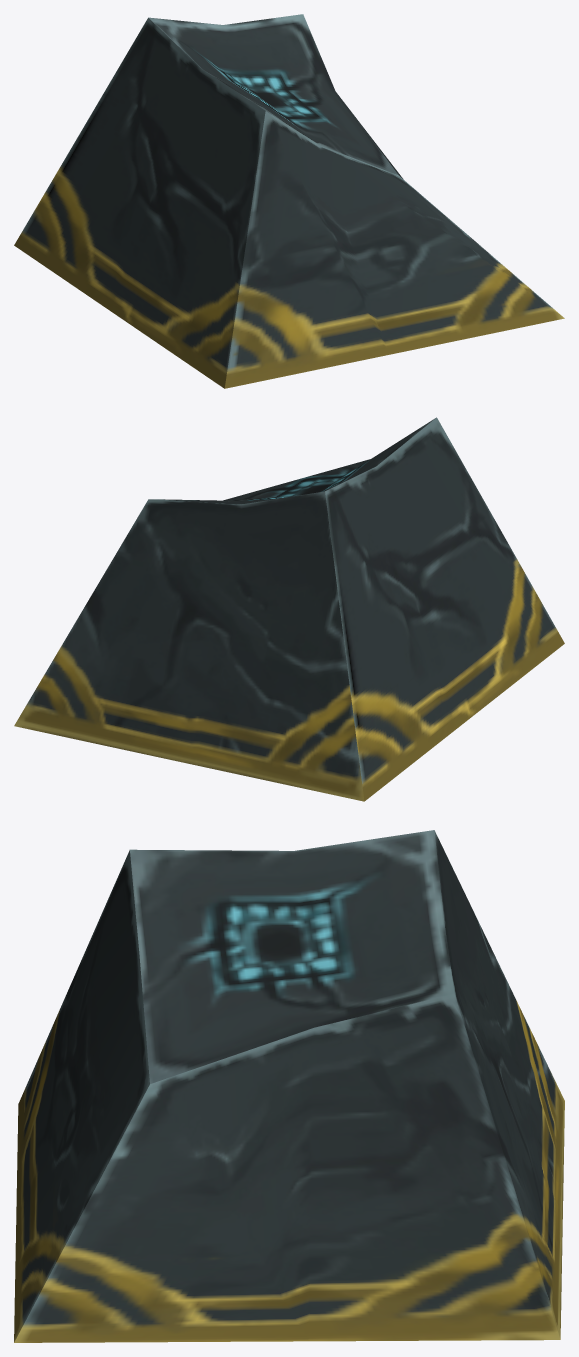
Rendered from lamp3.fbx.
3 renders of one model, top to bottom at view 1: azimuth 30°, elevation 25°; view 2: azimuth 150°, elevation 25°; view 3: azimuth 270°, elevation 25°, orthographic. The views are drawn at different scales.
Visible parts, largest first — view 1: polySurface50; view 2: polySurface50; view 3: polySurface50.
Part boxes in pixels (x1=…): polySurface50: x1=14, y1=14, x2=564, y2=388; polySurface50: x1=14, y1=417, x2=564, y2=801; polySurface50: x1=14, y1=830, x2=564, y2=1342.
Bounding box in the file's own units: 0.4449 × 0.3099 × 0.451.
